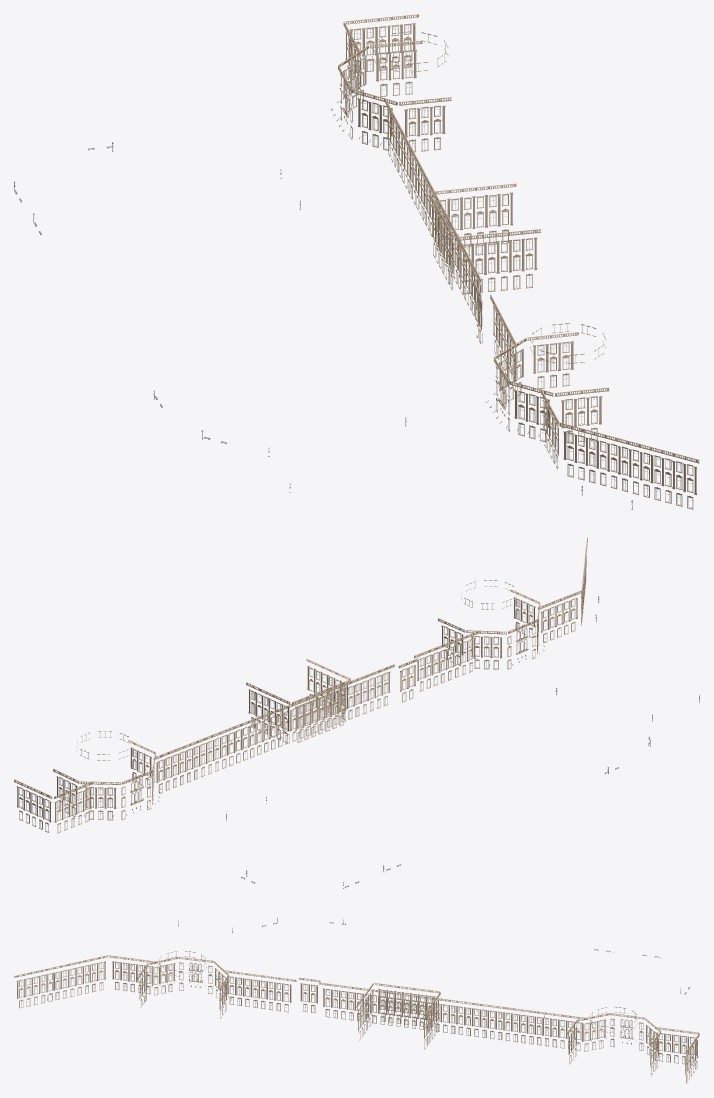
Rendered from marunouchi_fine.glb.
3 views of the same model, one above another, from view 1: azimuth 30°, elevation 25°; view 2: azimuth 150°, elevation 25°; view 3: azimuth 270°, elevation 25° (orthographic). The views are drawn at different scales.
Parts seen in each view (by area): view 1: marunouchi_stone_plain_c1_0, marunouchi_stone_plain_c1_1, marunouchi_stone_plain_c-1_-4, marunouchi_stone_plain_c2_5, marunouchi_stone_plain_c0_-3, marunouchi_stone_plain_c-1_-6, marunouchi_stone_plain_c2_4, marunouchi_stone_plain_c-1_-5, marunouchi_stone_plain_c3_6, marunouchi_stone_plain_c2_3, marunouchi_stone_plain_c1_2, marunouchi_stone_plain_c0_0 (+2 smaller); view 2: marunouchi_stone_plain_c1_1, marunouchi_stone_plain_c2_5, marunouchi_stone_plain_c1_0, marunouchi_stone_plain_c1_2, marunouchi_stone_plain_c0_0, marunouchi_stone_plain_c0_-3, marunouchi_stone_plain_c0_-2, marunouchi_stone_plain_c0_-1, marunouchi_stone_plain_c-1_-4, marunouchi_stone_plain_c-1_-3, marunouchi_stone_plain_c2_3, marunouchi_stone_plain_c1_3 (+3 smaller); view 3: marunouchi_stone_plain_c1_1, marunouchi_stone_plain_c1_0, marunouchi_stone_plain_c1_2, marunouchi_stone_plain_c2_5, marunouchi_stone_plain_c-1_-4, marunouchi_stone_plain_c-1_-5, marunouchi_stone_plain_c0_-2, marunouchi_stone_plain_c0_0, marunouchi_stone_plain_c0_-1, marunouchi_stone_plain_c-1_-6, marunouchi_stone_plain_c2_4, marunouchi_stone_plain_c0_-3 (+6 smaller).
Boxes of the visible parts, left/top/right/bottom form: marunouchi_stone_plain_c1_0: left=387, top=106, right=541, bottom=292; marunouchi_stone_plain_c1_1: left=428, top=181, right=516, bottom=268; marunouchi_stone_plain_c-1_-4: left=494, top=342, right=600, bottom=453; marunouchi_stone_plain_c2_5: left=338, top=22, right=415, bottom=120; marunouchi_stone_plain_c0_-3: left=501, top=323, right=590, bottom=398; marunouchi_stone_plain_c-1_-6: left=559, top=422, right=686, bottom=497; marunouchi_stone_plain_c2_4: left=342, top=48, right=443, bottom=156; marunouchi_stone_plain_c-1_-5: left=541, top=390, right=598, bottom=483; marunouchi_stone_plain_c3_6: left=345, top=14, right=418, bottom=71; marunouchi_stone_plain_c2_3: left=389, top=97, right=451, bottom=167; marunouchi_stone_plain_c1_2: left=384, top=98, right=472, bottom=262; marunouchi_stone_plain_c0_0: left=431, top=197, right=470, bottom=305; marunouchi_stone_plain_c1_1: left=246, top=682, right=343, bottom=752; marunouchi_stone_plain_c2_5: left=54, top=749, right=148, bottom=829; marunouchi_stone_plain_c1_0: left=178, top=658, right=394, bottom=750; marunouchi_stone_plain_c1_2: left=154, top=669, right=381, bottom=771; marunouchi_stone_plain_c0_0: left=302, top=676, right=360, bottom=731; marunouchi_stone_plain_c0_-3: left=438, top=593, right=502, bottom=677; marunouchi_stone_plain_c0_-2: left=414, top=630, right=480, bottom=691; marunouchi_stone_plain_c0_-1: left=360, top=658, right=418, bottom=714; marunouchi_stone_plain_c-1_-4: left=506, top=590, right=573, bottom=659; marunouchi_stone_plain_c-1_-3: left=471, top=601, right=533, bottom=669; marunouchi_stone_plain_c2_3: left=128, top=740, right=177, bottom=790; marunouchi_stone_plain_c1_3: left=175, top=735, right=213, bottom=785; marunouchi_stone_plain_c1_1: left=384, top=984, right=465, bottom=1045; marunouchi_stone_plain_c1_0: left=319, top=982, right=553, bottom=1040; marunouchi_stone_plain_c1_2: left=352, top=987, right=587, bottom=1042; marunouchi_stone_plain_c2_5: left=616, top=1010, right=698, bottom=1070; marunouchi_stone_plain_c-1_-4: left=118, top=951, right=206, bottom=1001; marunouchi_stone_plain_c-1_-5: left=82, top=955, right=148, bottom=993; marunouchi_stone_plain_c0_-2: left=222, top=970, right=302, bottom=1012; marunouchi_stone_plain_c0_0: left=357, top=983, right=430, bottom=1024; marunouchi_stone_plain_c0_-1: left=298, top=977, right=356, bottom=1020; marunouchi_stone_plain_c-1_-6: left=34, top=955, right=107, bottom=1001; marunouchi_stone_plain_c2_4: left=575, top=1007, right=633, bottom=1056; marunouchi_stone_plain_c0_-3: left=192, top=954, right=249, bottom=1018.
Size of the model in its own units: 174 by 25.6 by 301.
